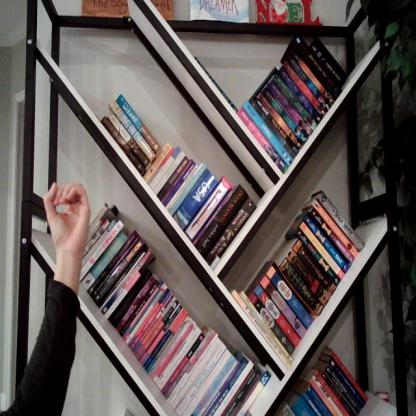zero: (43, 180, 95, 256)
